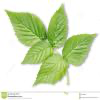Raspberry leaf: (3, 8, 47, 46), (32, 52, 70, 87), (61, 33, 98, 65), (46, 2, 68, 48), (19, 40, 55, 65)
